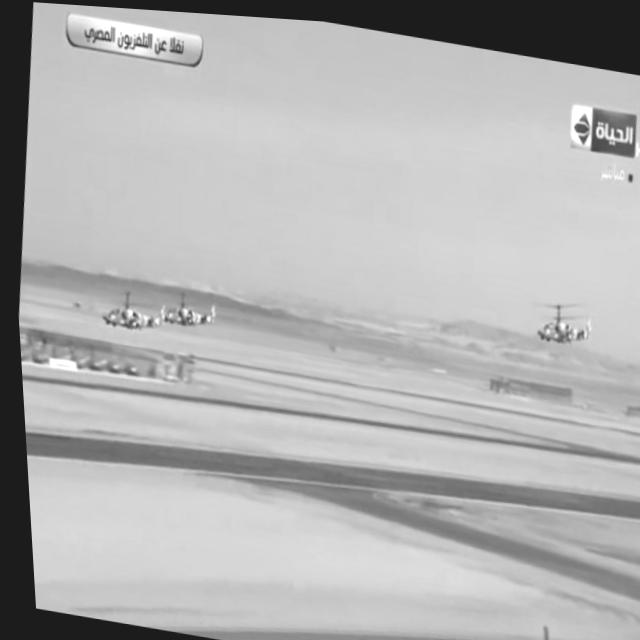helikopter: (96, 253, 223, 355), (525, 277, 605, 367)
